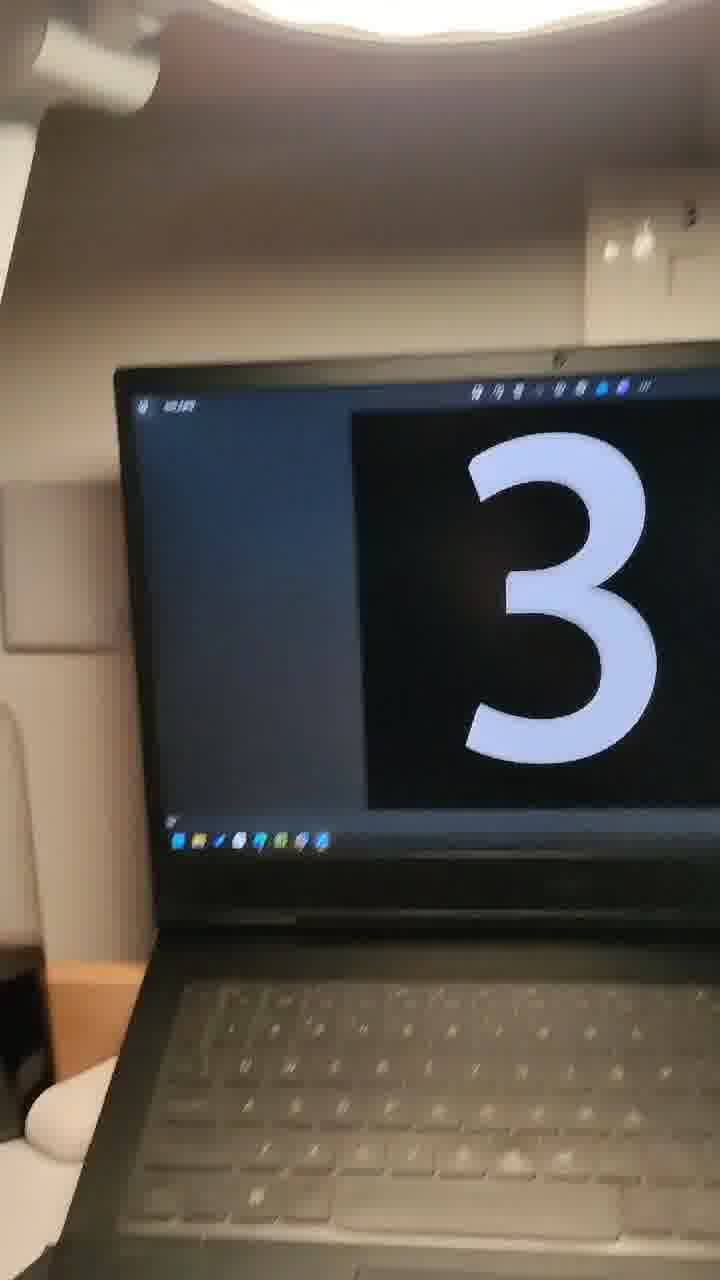three: (394, 370, 673, 831)
